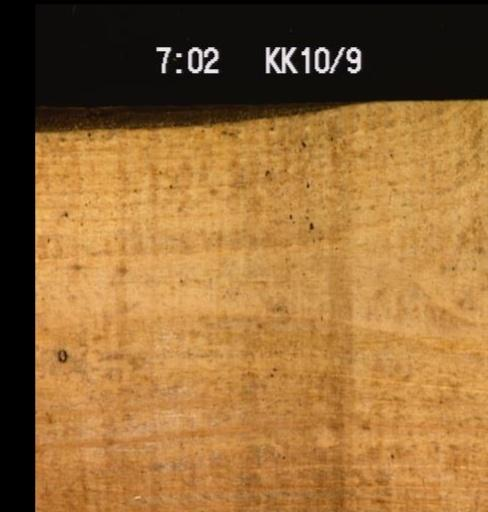dry_knot: (56, 345, 68, 363)
wave: (35, 102, 357, 131)
